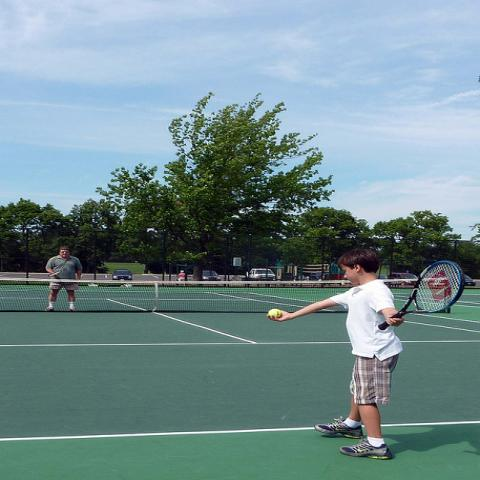car: (385, 273, 418, 287), (246, 269, 275, 281), (111, 269, 133, 280), (203, 270, 220, 280), (464, 274, 475, 286)
